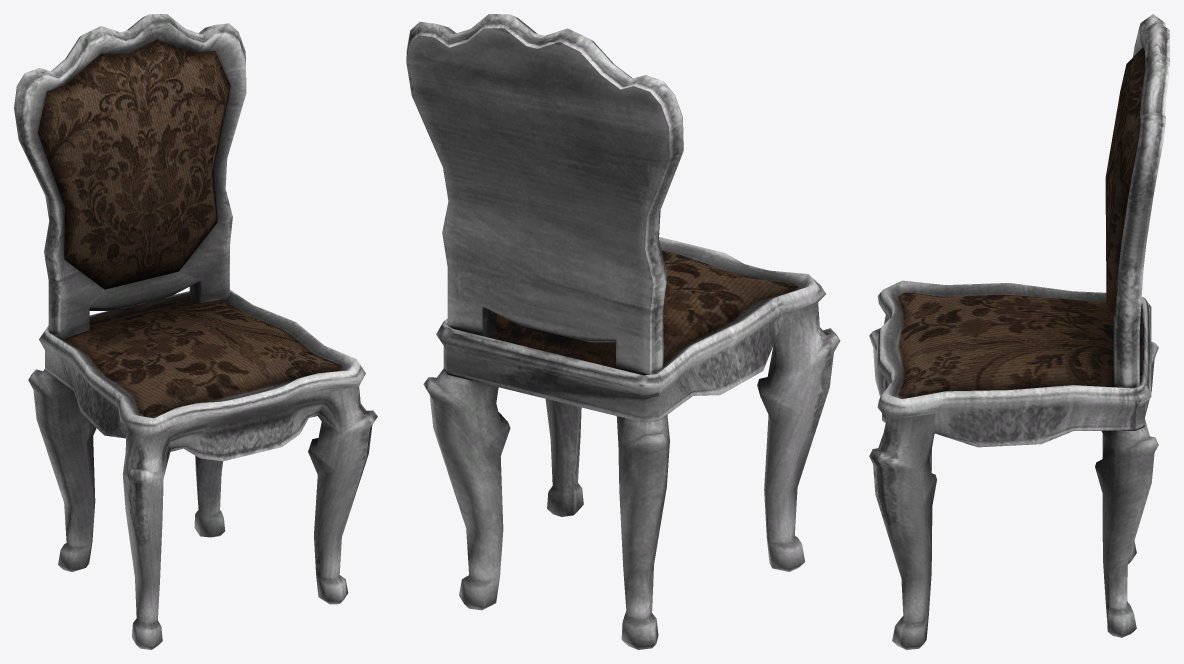
The model's file is chair_nice11.dae.
3 renders of one model, left to right at view 1: azimuth 30°, elevation 25°; view 2: azimuth 150°, elevation 25°; view 3: azimuth 270°, elevation 25°, orthographic. The views are drawn at different scales.
Parts seen in each view (by area): view 1: chair_nice01_Mesh; view 2: chair_nice01_Mesh; view 3: chair_nice01_Mesh.
Part boxes in pixels (x1,y1,x2,y2): chair_nice01_Mesh: [14, 14, 377, 649]; chair_nice01_Mesh: [406, 14, 840, 649]; chair_nice01_Mesh: [869, 14, 1169, 649].
Bounding box in the file's own units: 0.6539 × 1.31 × 0.6397.
